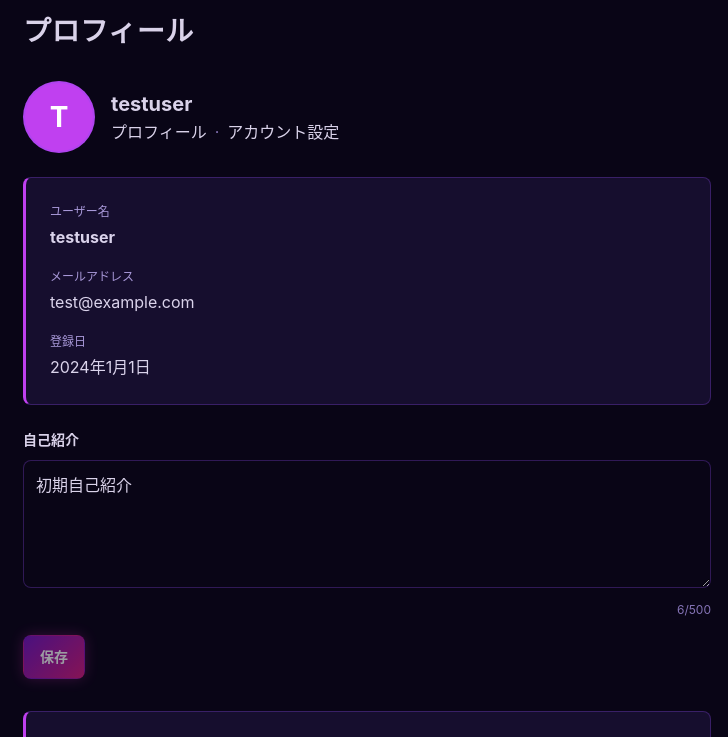
ProfilePage › 保存中はボタンが無効化される
Replace the text in the text box labelled "自己紹介" with "変更後の自己紹介" at (367, 524), box [23, 460, 711, 588]
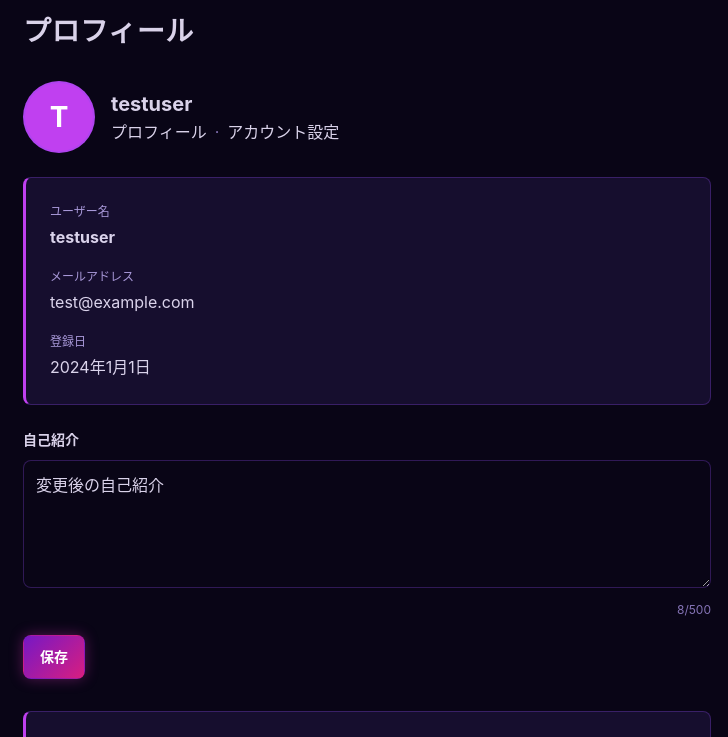
Click the button "保存".
click(54, 657)  # box [23, 635, 85, 679]
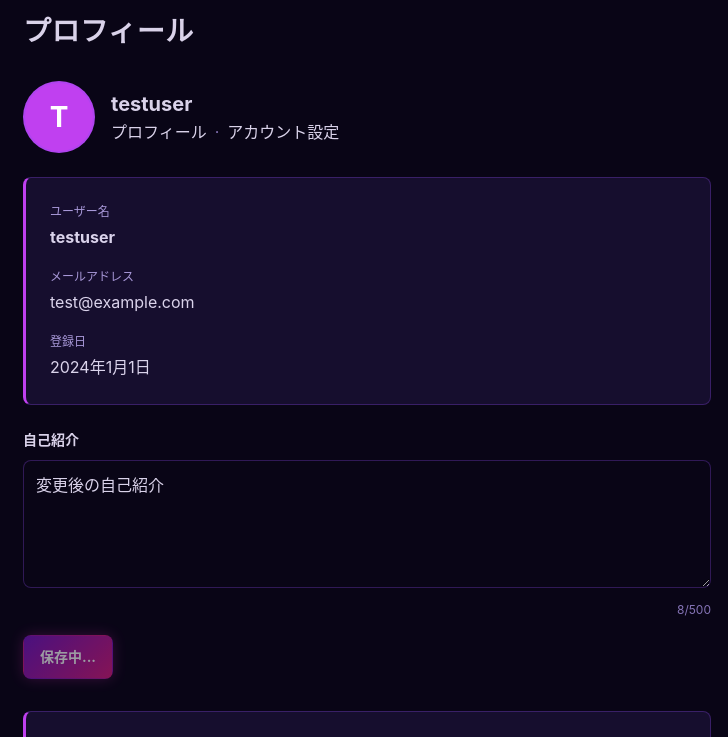
Check: the button "保存中..." is disabled, box [23, 635, 113, 679]
